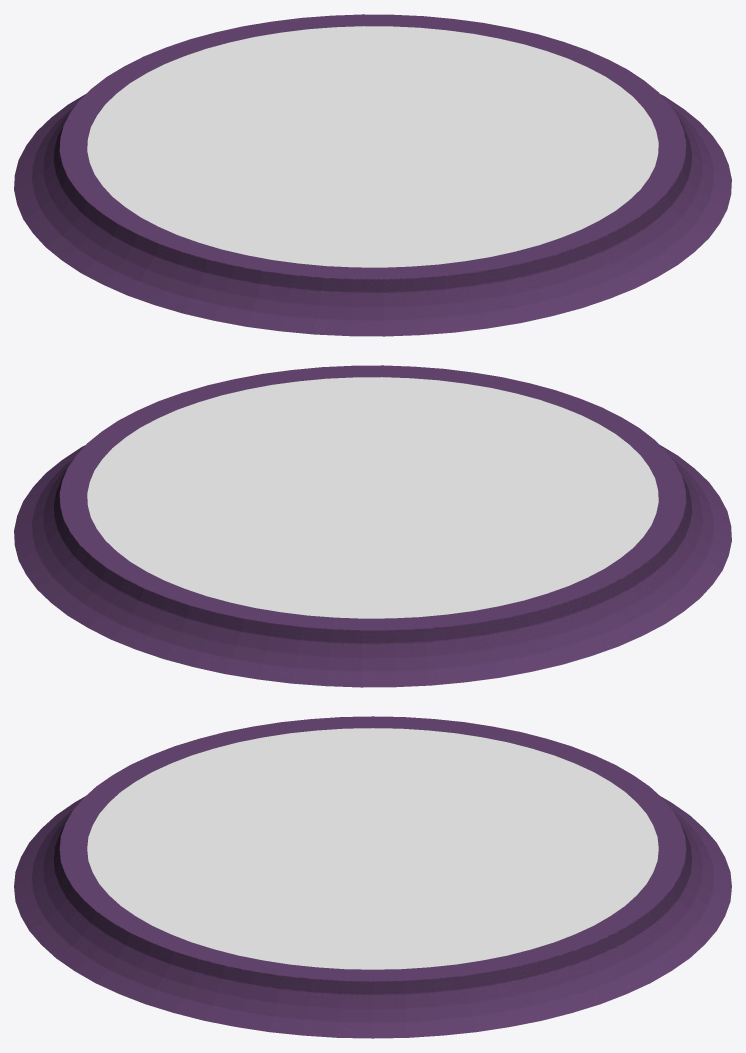
Rendered from pedestal.gltf.
3 renders of one model, top to bottom at view 1: azimuth 30°, elevation 25°; view 2: azimuth 150°, elevation 25°; view 3: azimuth 270°, elevation 25°, orthographic.
Visible parts, largest first — view 1: Cylinder.001; view 2: Cylinder.001; view 3: Cylinder.001.
Boxes of the visible parts, box(x1,y1,x2,y2) form: Cylinder.001: box(14, 14, 731, 336); Cylinder.001: box(14, 365, 731, 687); Cylinder.001: box(14, 716, 731, 1038).
Size of the model in its own units: 1.72 by 0.1 by 1.72.
Materials: 1 (1 with a texture image).
